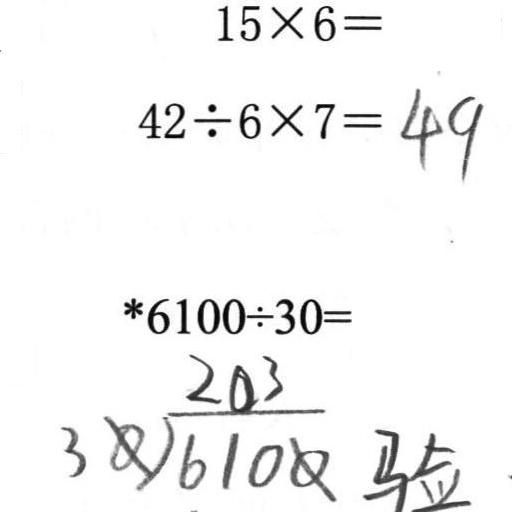ans: (396, 82, 482, 179)
